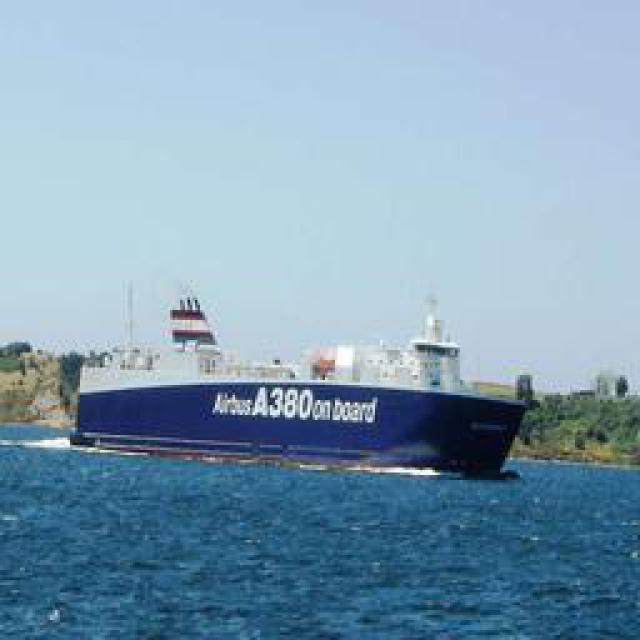Ship: (75, 277, 540, 470)
